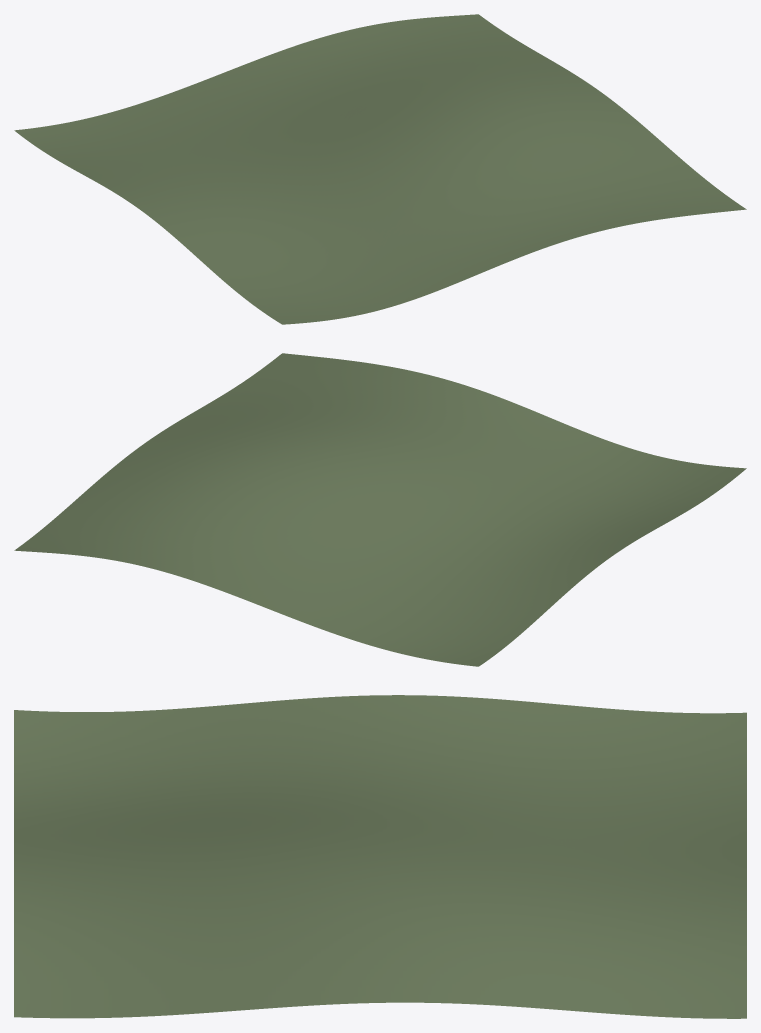
The model's file is sapphire_coral_shelf.obj.
3 renders of one model, top to bottom at view 1: azimuth 30°, elevation 25°; view 2: azimuth 150°, elevation 25°; view 3: azimuth 270°, elevation 25°, orthographic. The views are drawn at different scales.
Bounding box in the file's own units: 179 × 14.41 × 179.
